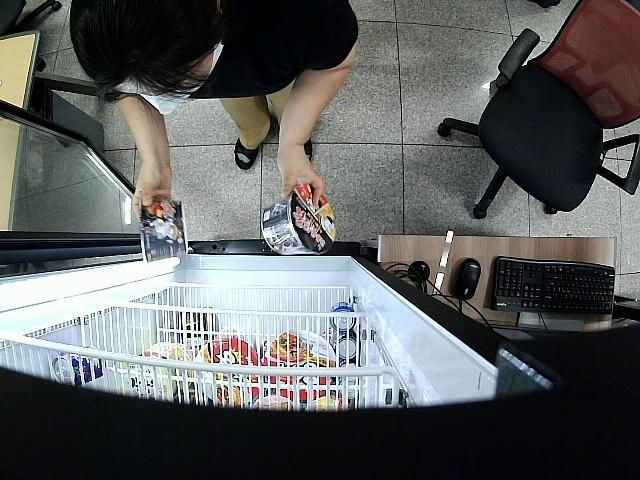07_buldak_L: (260, 182, 334, 254), (138, 199, 187, 266)
